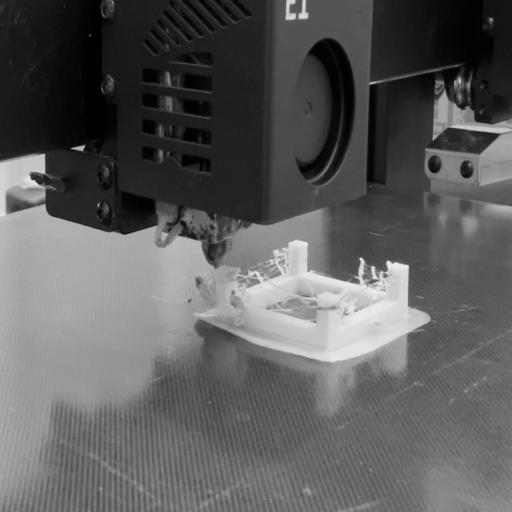spaghetti_and_stringing: (240, 264, 390, 314), (186, 276, 246, 307)
warp: (274, 340, 359, 382), (194, 311, 268, 353)
